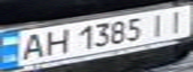1: (72, 22, 96, 51)
3: (93, 20, 115, 48)
5: (124, 15, 151, 43)
8: (109, 17, 130, 46)
A: (15, 30, 51, 62)
H: (39, 27, 72, 56)
I: (160, 7, 193, 34), (142, 10, 172, 38)
